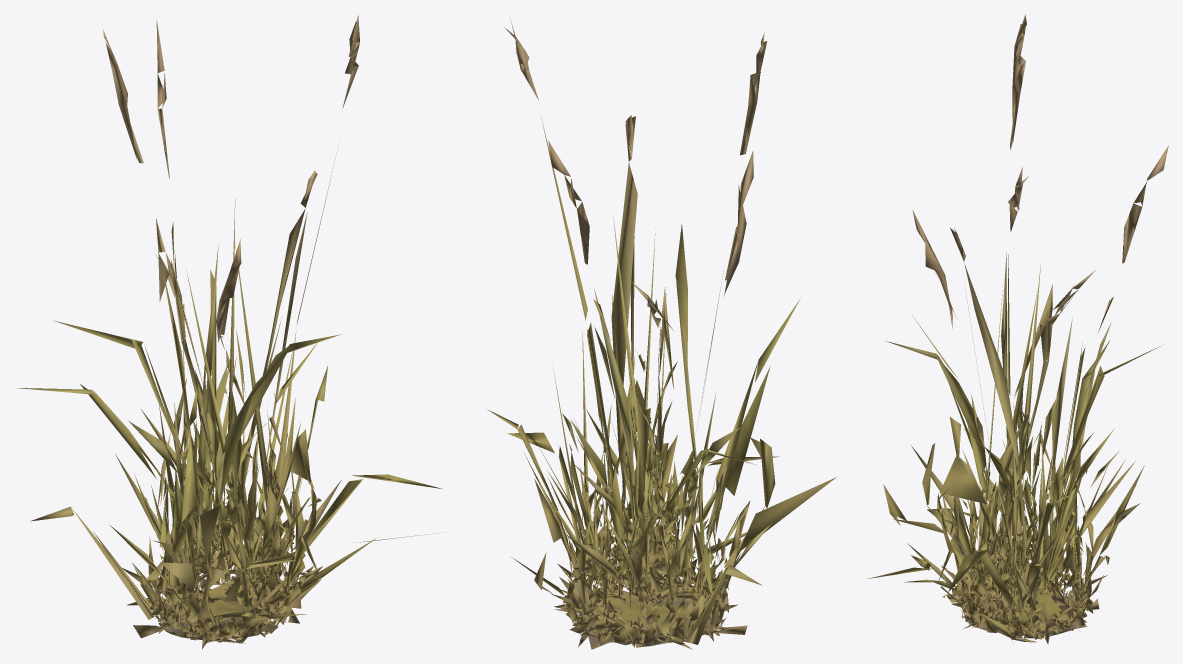
File: Worlded6f92e1a2.glb
3 renders of one model, left to right at view 1: azimuth 30°, elevation 25°; view 2: azimuth 150°, elevation 25°; view 3: azimuth 270°, elevation 25°, orthographic. The views are drawn at different scales.
Visible parts, largest first — view 1: mesh_node; view 2: mesh_node; view 3: mesh_node.
Boxes of the visible parts, x1,y1,x2,y2 form: mesh_node: (18, 15, 444, 649); mesh_node: (487, 18, 836, 649); mesh_node: (868, 14, 1168, 644).
Bounding box in the file's own units: 0.5201 × 0.9102 × 0.449.
1 material, 1 textured.
